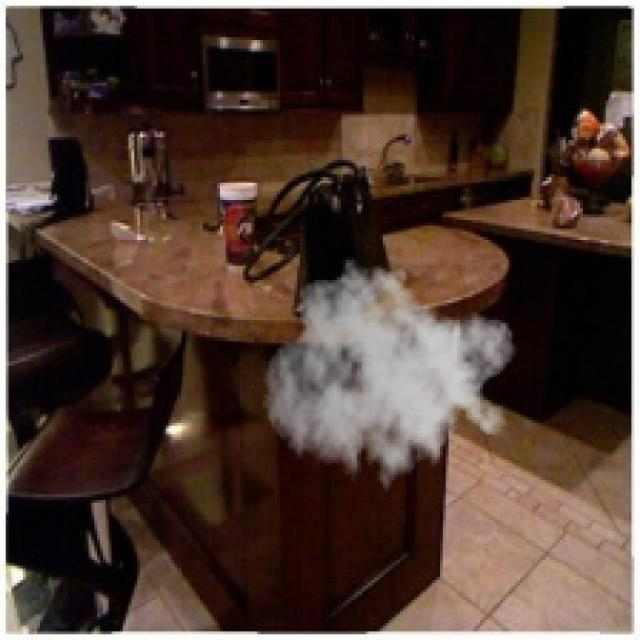Smoke: (262, 251, 518, 503)
